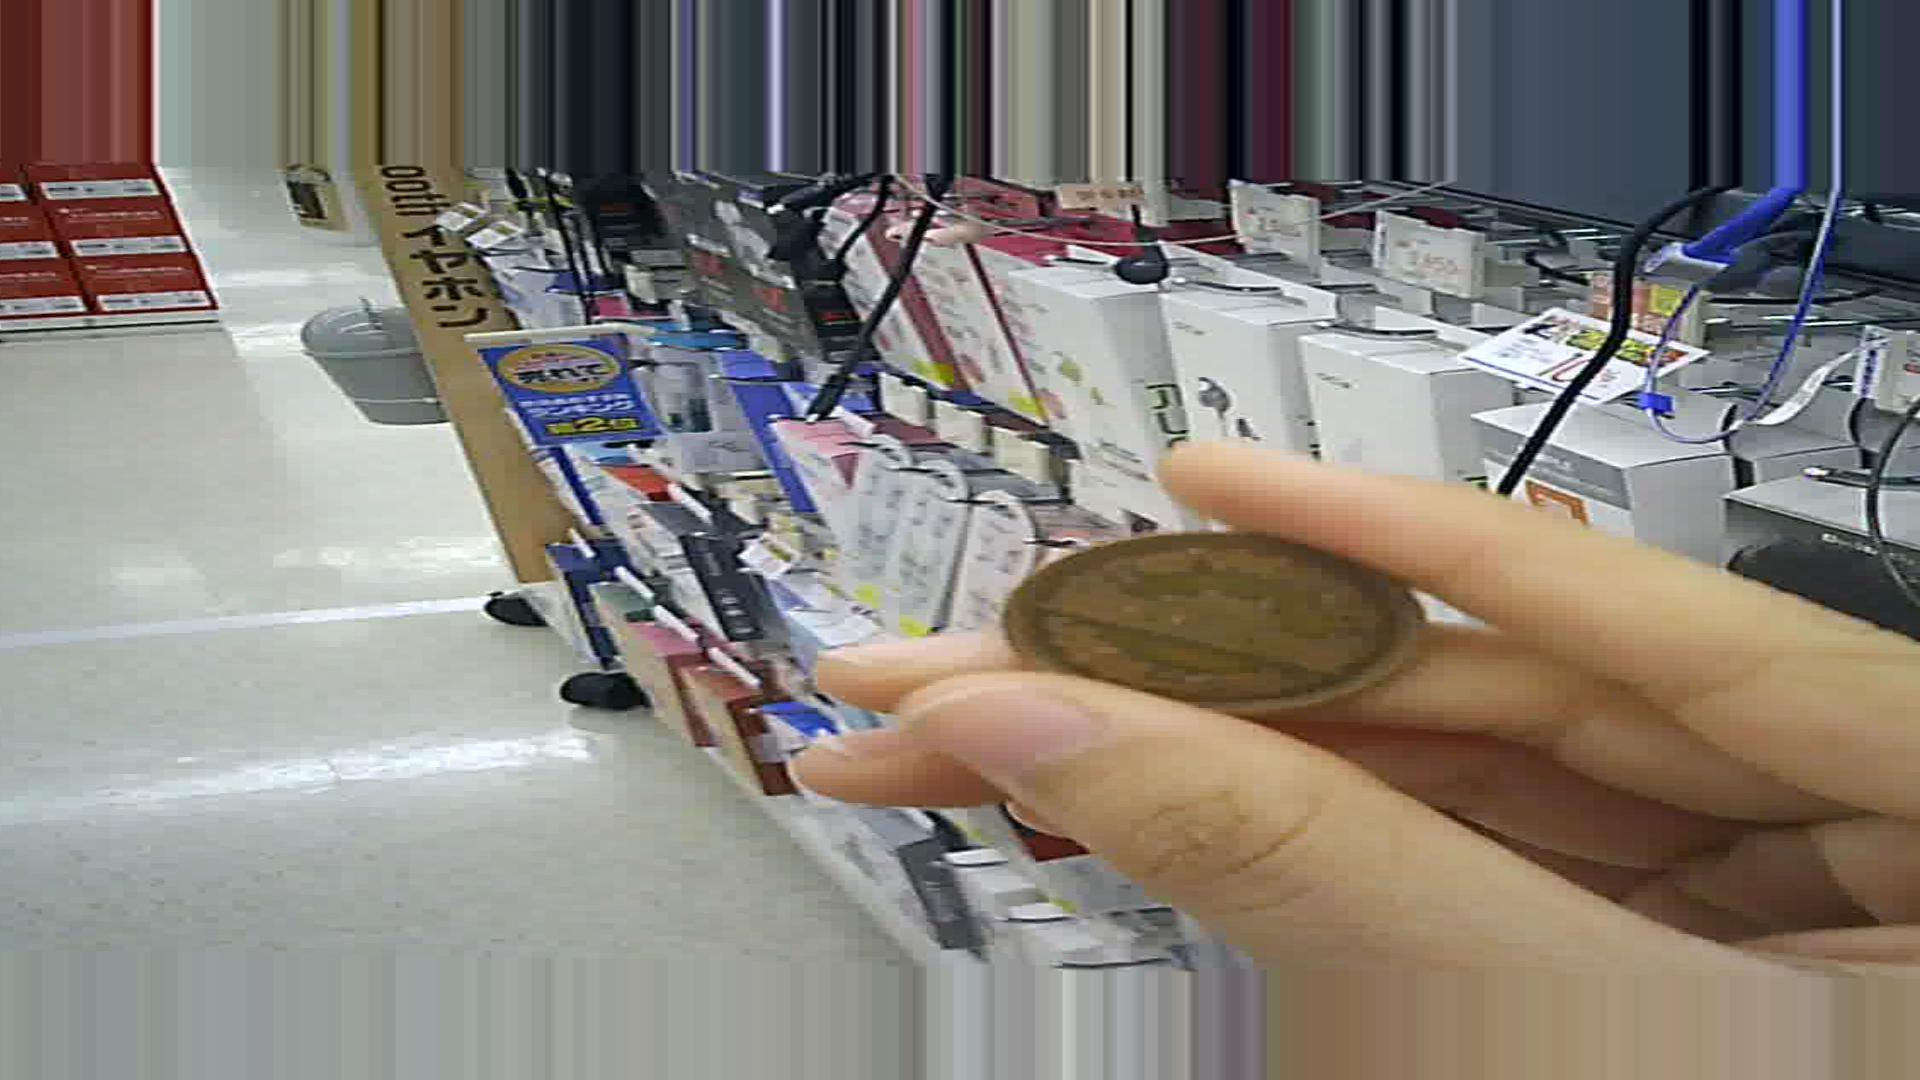10 Yen: (992, 527, 1443, 738)
